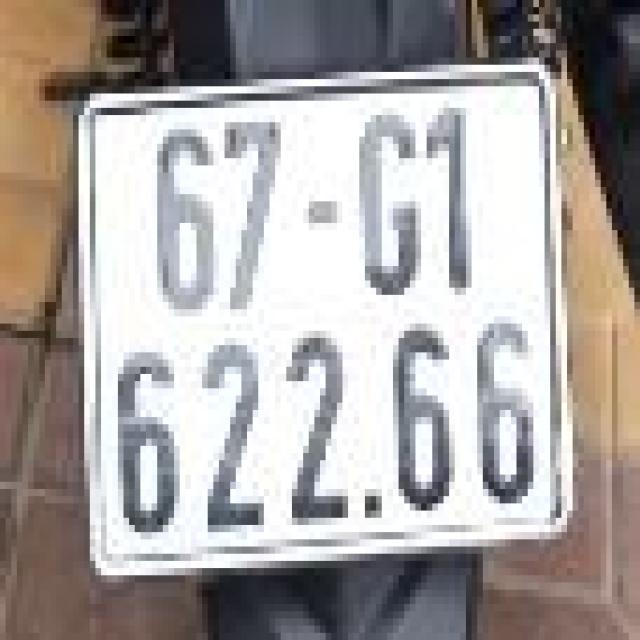1: (424, 97, 486, 306)
2: (194, 327, 272, 536), (275, 324, 354, 525)
6: (107, 334, 185, 543), (466, 306, 550, 500), (146, 122, 225, 316), (382, 320, 460, 514)
7: (219, 112, 292, 327)
G: (348, 97, 421, 306)
